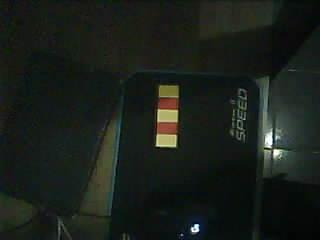lego: (155, 84, 180, 147)
